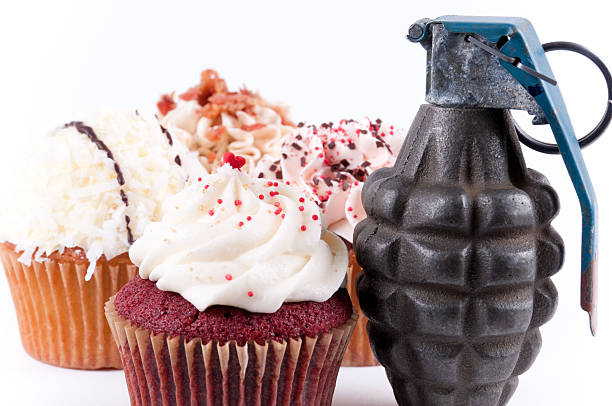e1: (355, 13, 598, 405)
